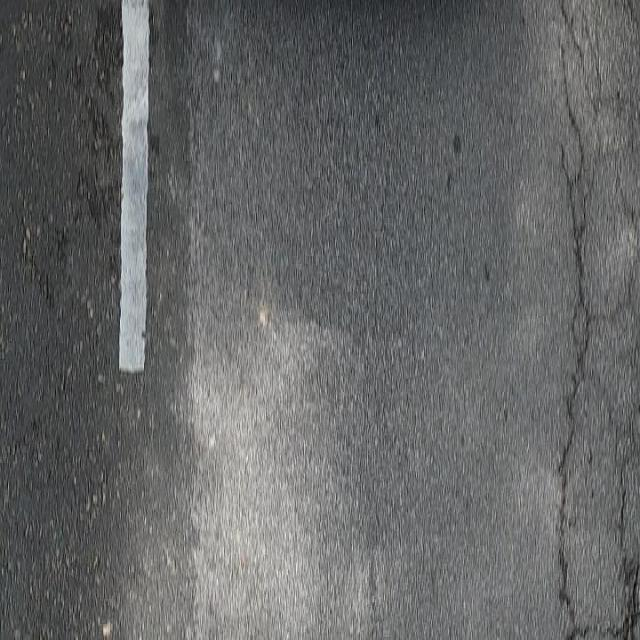cracks: (523, 0, 640, 640)
